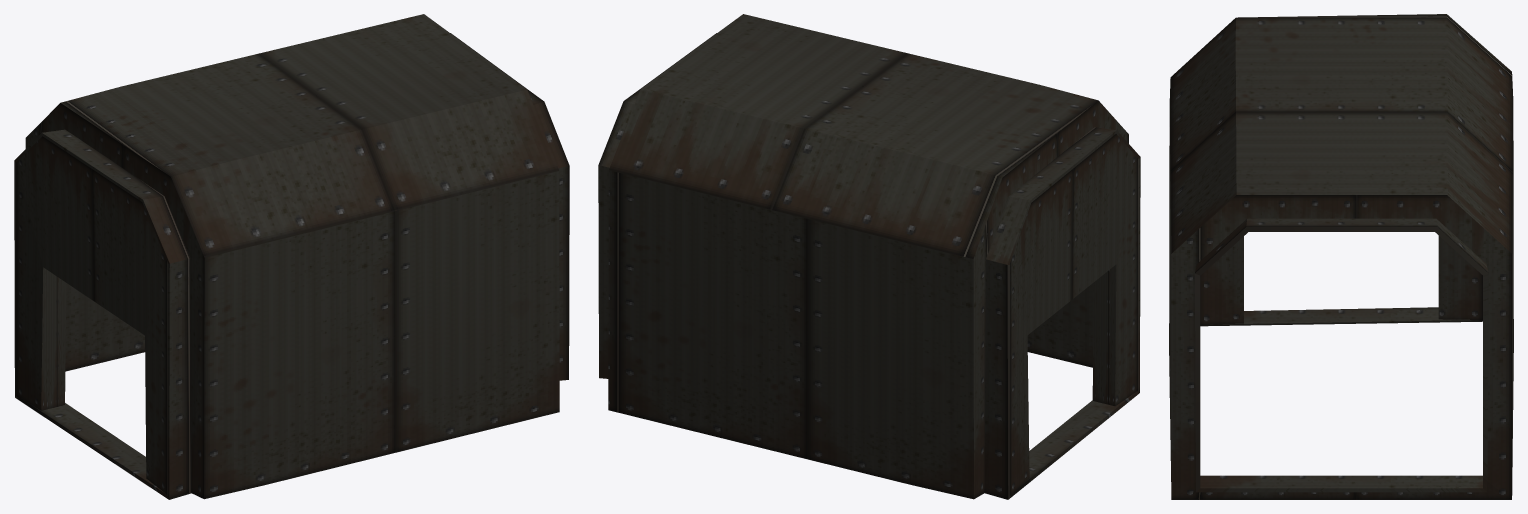
File: Level 4.fbx
3 views of the same model, side by side, from view 1: azimuth 30°, elevation 25°; view 2: azimuth 150°, elevation 25°; view 3: azimuth 270°, elevation 25° (orthographic). The views are drawn at different scales.
Parts seen in each view (by area): view 1: Level 4 lab blast door, AuroDoor Glass; view 2: Level 4 lab blast door, AuroDoor Glass; view 3: Level 4 lab blast door, AuroDoor Glass.
Part boxes in pixels (x1,y1,x2,y2): Level 4 lab blast door: (14,14,569,499); AuroDoor Glass: (16,136,167,495); Level 4 lab blast door: (598,14,1140,499); AuroDoor Glass: (1010,134,1138,495); Level 4 lab blast door: (1169,14,1513,499); AuroDoor Glass: (1200,236,1482,325).
Bounding box in the file's own units: 934 × 660 × 665.
